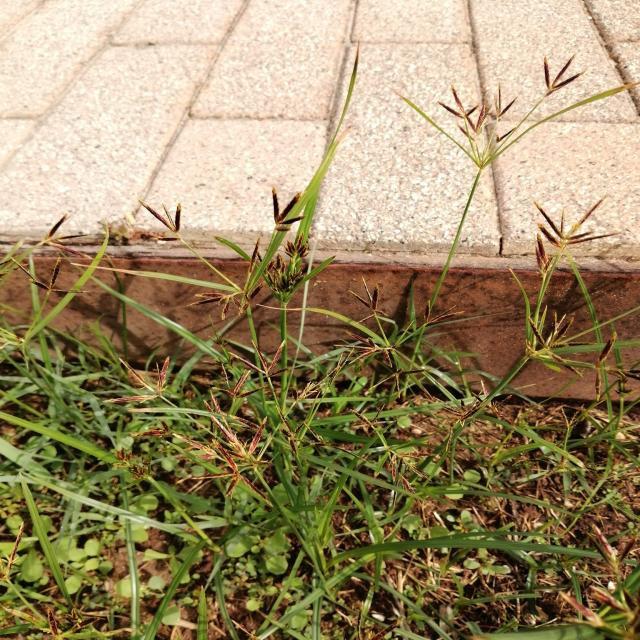cyperus: (506, 196, 640, 389), (393, 57, 595, 185), (109, 355, 275, 491), (137, 190, 301, 312), (286, 407, 434, 502), (325, 275, 444, 388), (4, 219, 99, 304), (232, 229, 322, 305), (445, 381, 516, 432), (550, 402, 591, 434)
